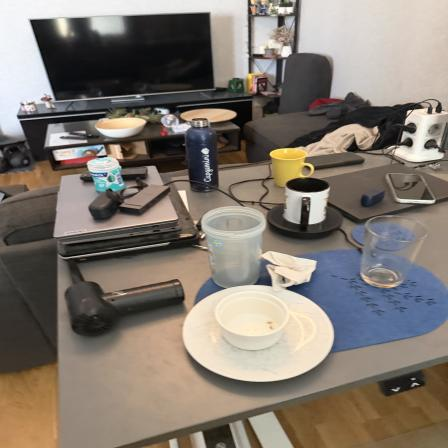blue_bottle: (187, 114, 223, 190)
phone: (385, 167, 438, 206)
yellow_cup: (271, 145, 317, 190)
